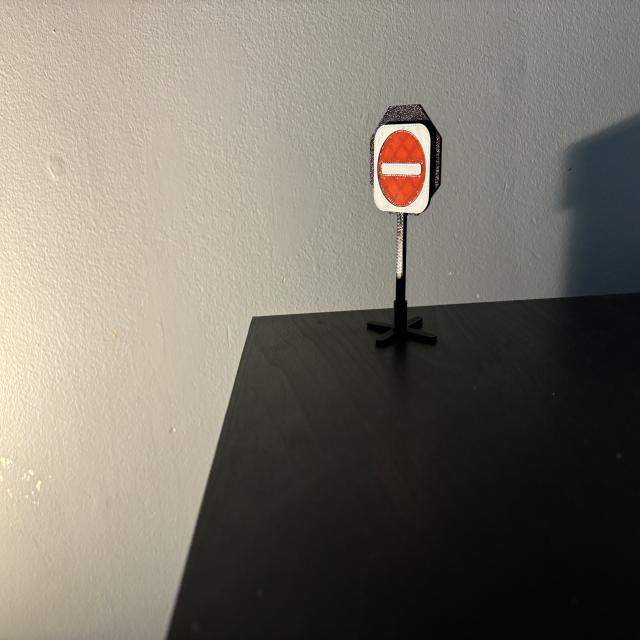sign_noentry: (375, 126, 431, 213)
